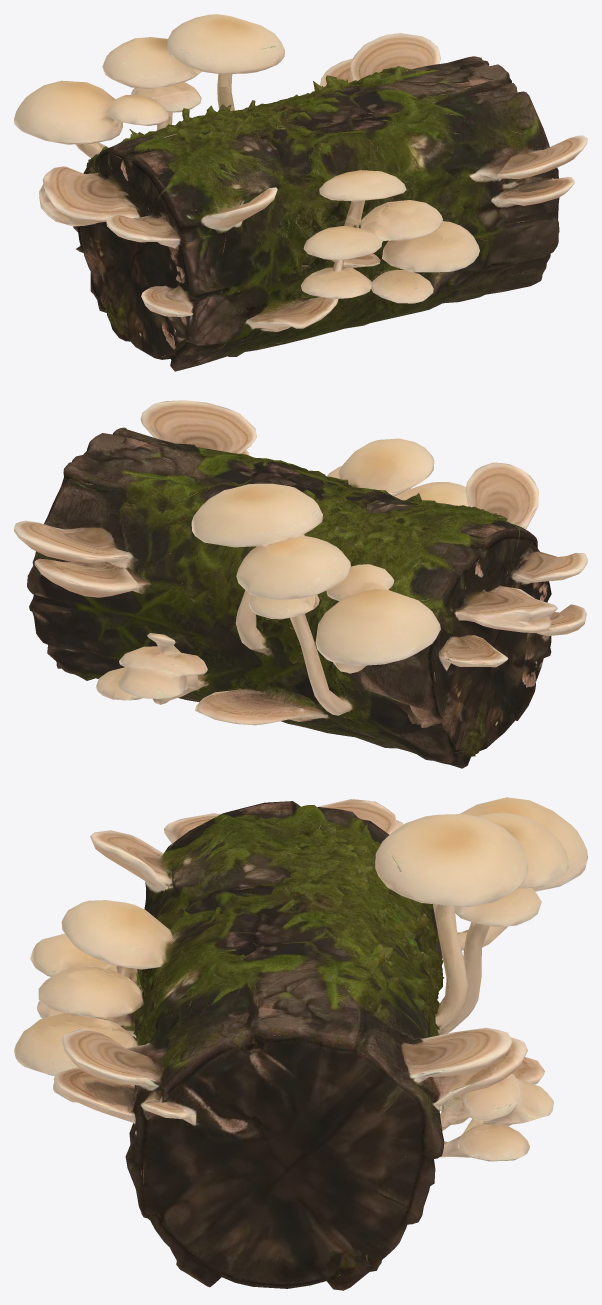
File: prop_mushroom.glb
The picture shows the model from 3 angles, top to bottom: view 1: azimuth 30°, elevation 25°; view 2: azimuth 150°, elevation 25°; view 3: azimuth 270°, elevation 25°; orthographic projection. The views are drawn at different scales.
Visible parts, largest first — view 1: Mesh_0; view 2: Mesh_0; view 3: Mesh_0.
Boxes of the visible parts, x1=… form: Mesh_0: x1=14, y1=14, x2=587, y2=371; Mesh_0: x1=14, y1=400, x2=587, y2=768; Mesh_0: x1=14, y1=797, x2=587, y2=1290.
Size of the model in its own units: 1.91 by 0.9889 by 1.57.
1 material, 1 textured.
